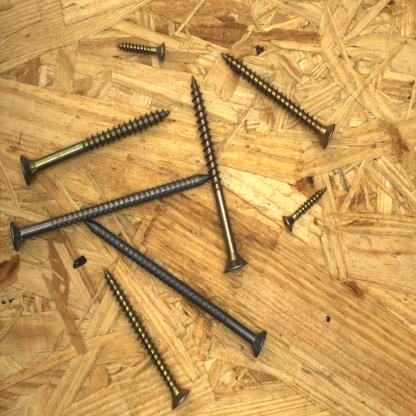screw: (83, 216, 272, 362), (6, 166, 218, 257), (101, 264, 193, 413), (17, 103, 176, 188), (188, 70, 251, 280), (219, 48, 338, 153), (281, 183, 330, 237), (111, 36, 171, 64)
